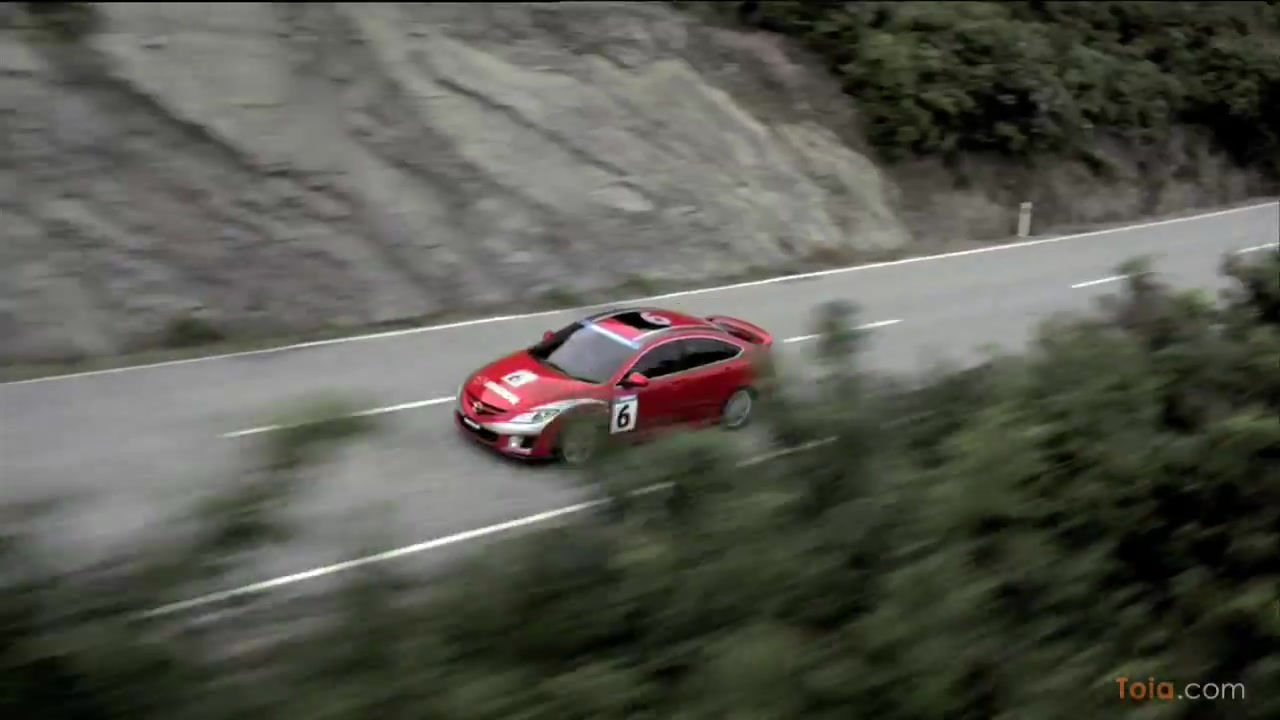car: (457, 306, 782, 469)
